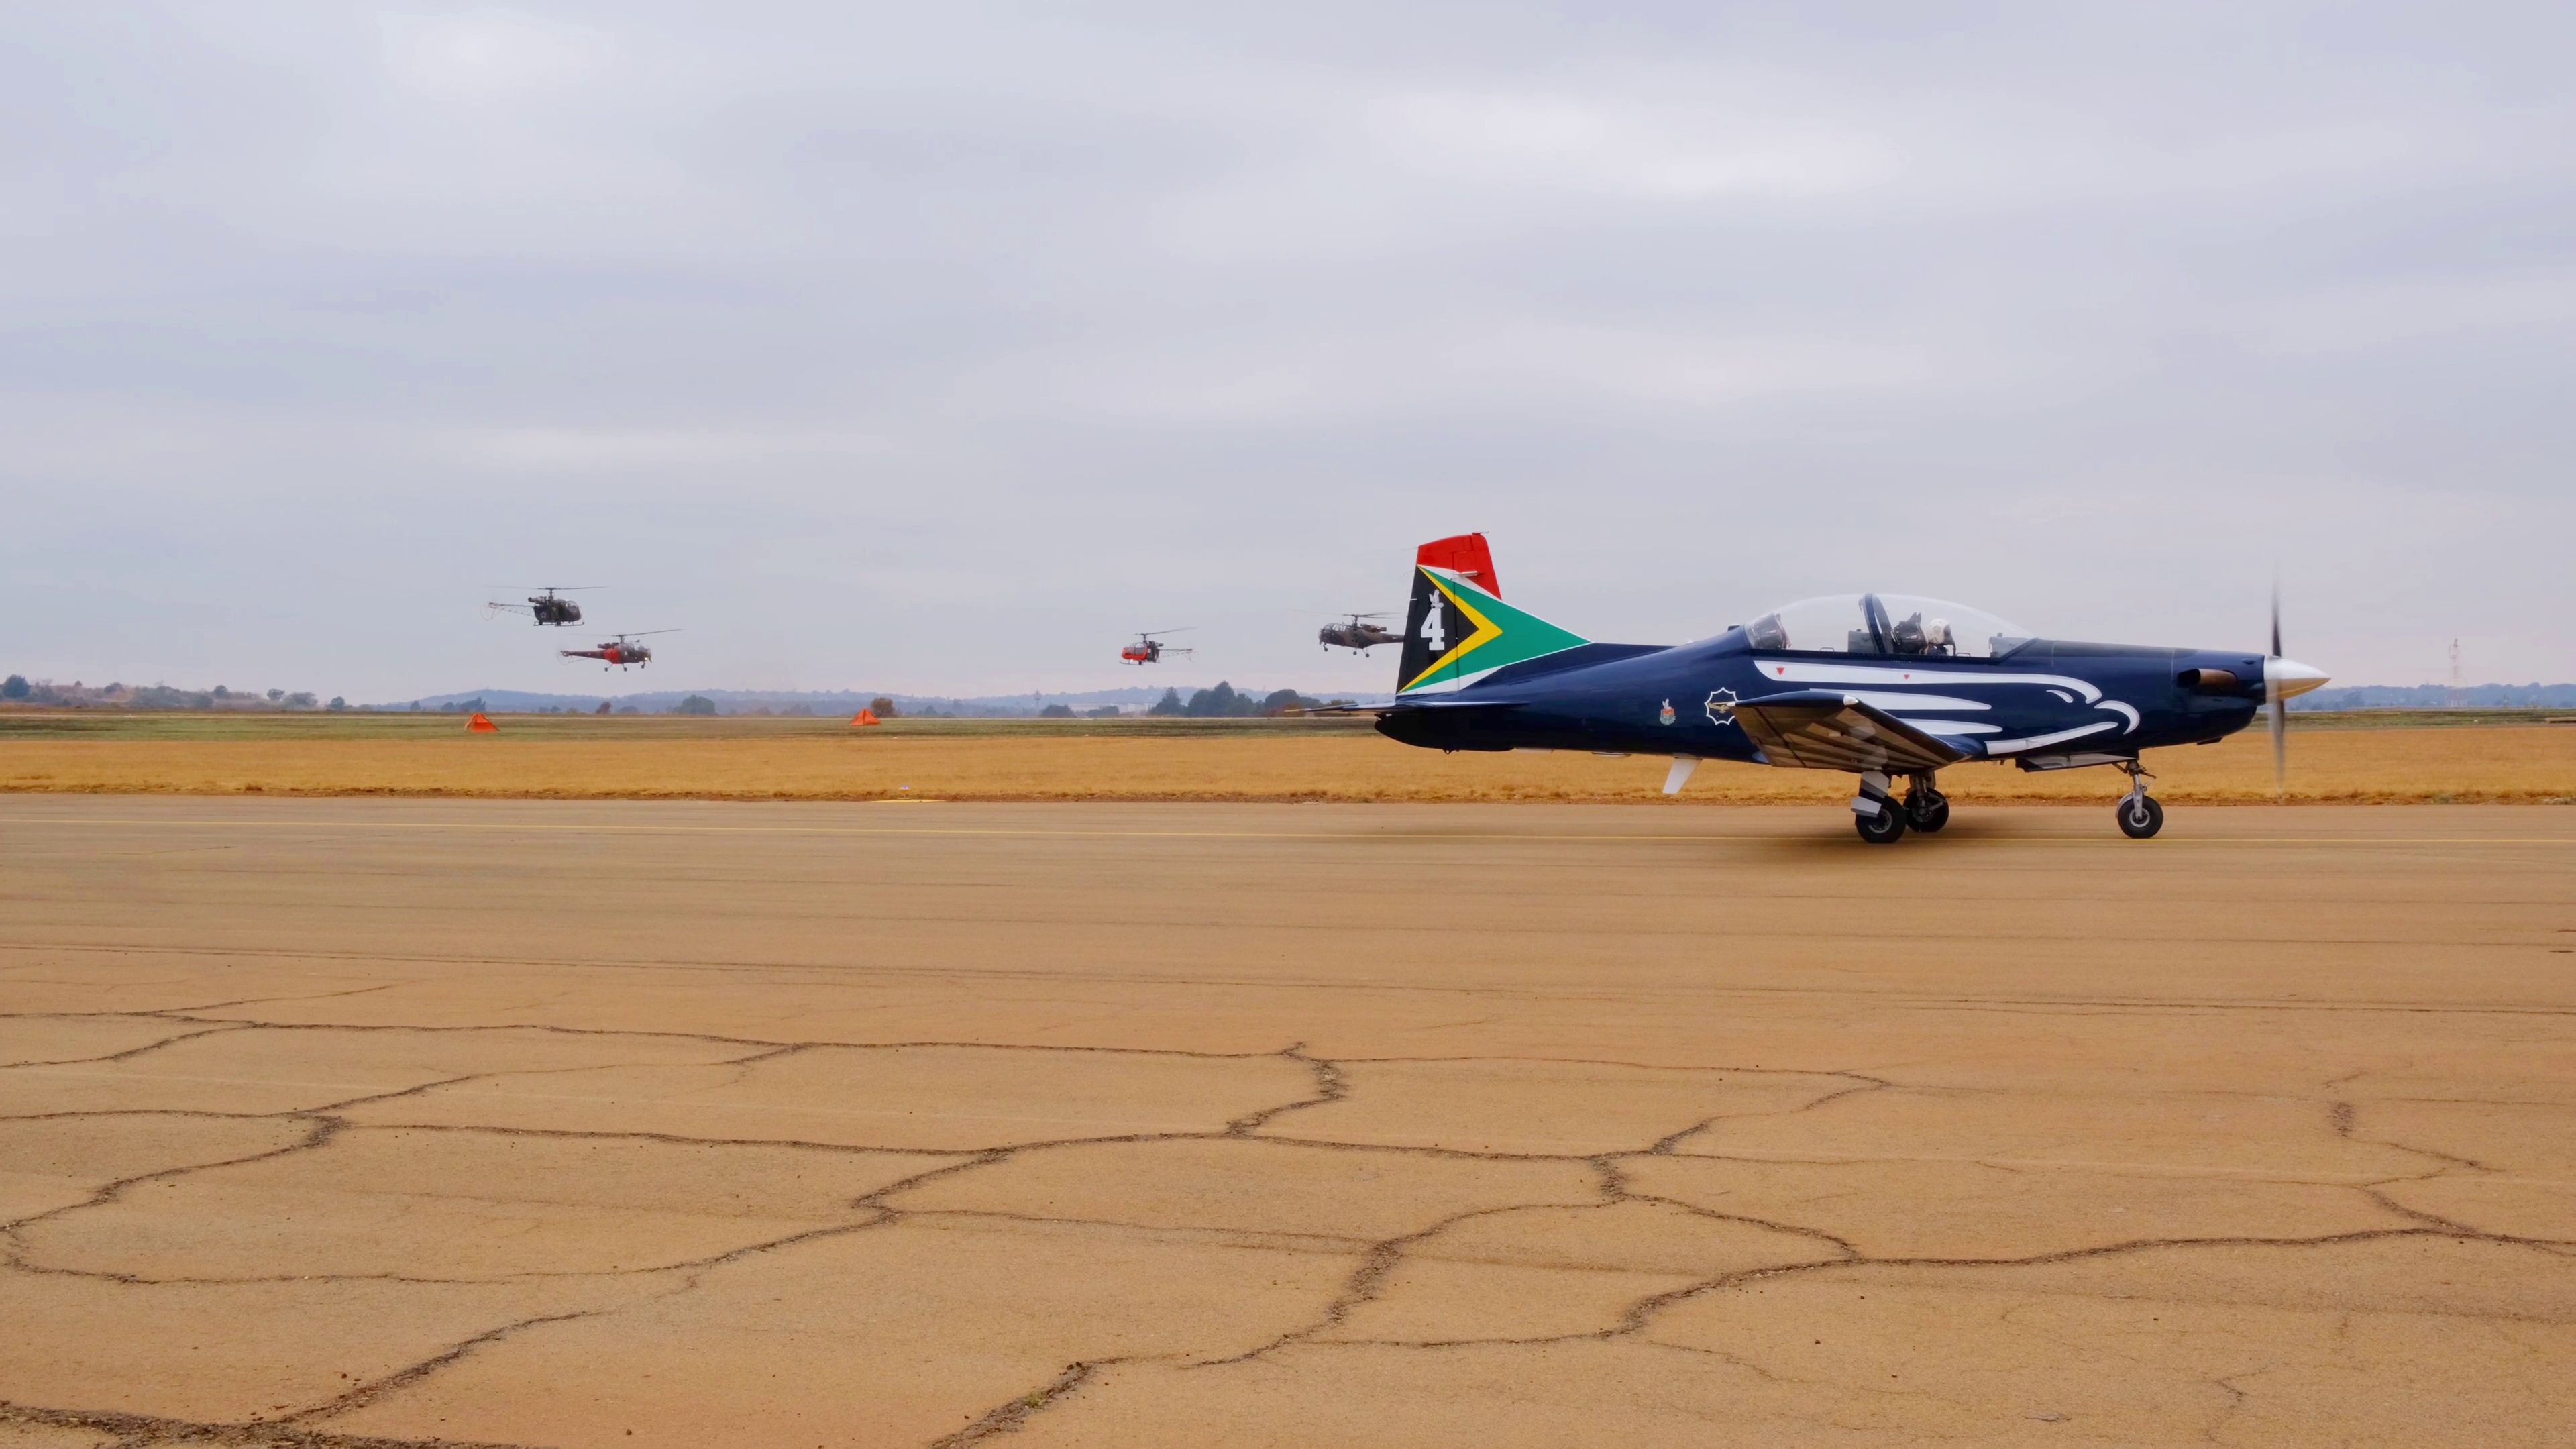heli: (557, 630, 685, 676), (485, 584, 600, 628), (1315, 609, 1408, 658), (1116, 623, 1192, 669)
plane: (1376, 531, 2327, 853)
